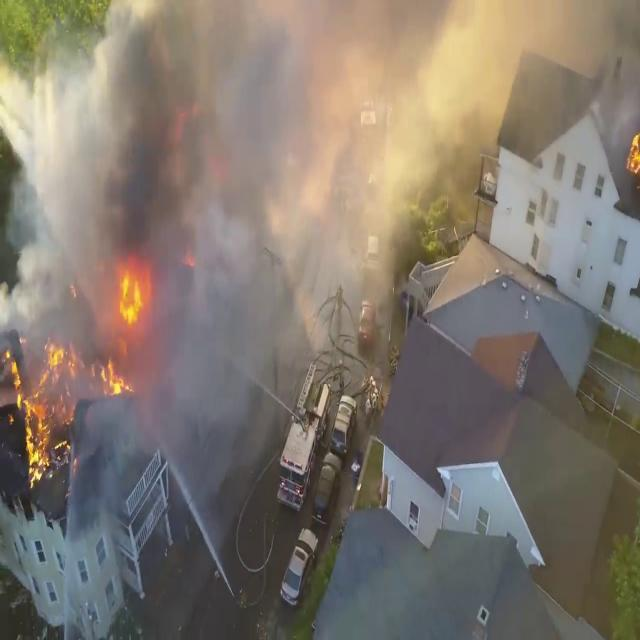Fire: (5, 336, 76, 476), (100, 254, 150, 397)
Smoke: (2, 0, 632, 412)
